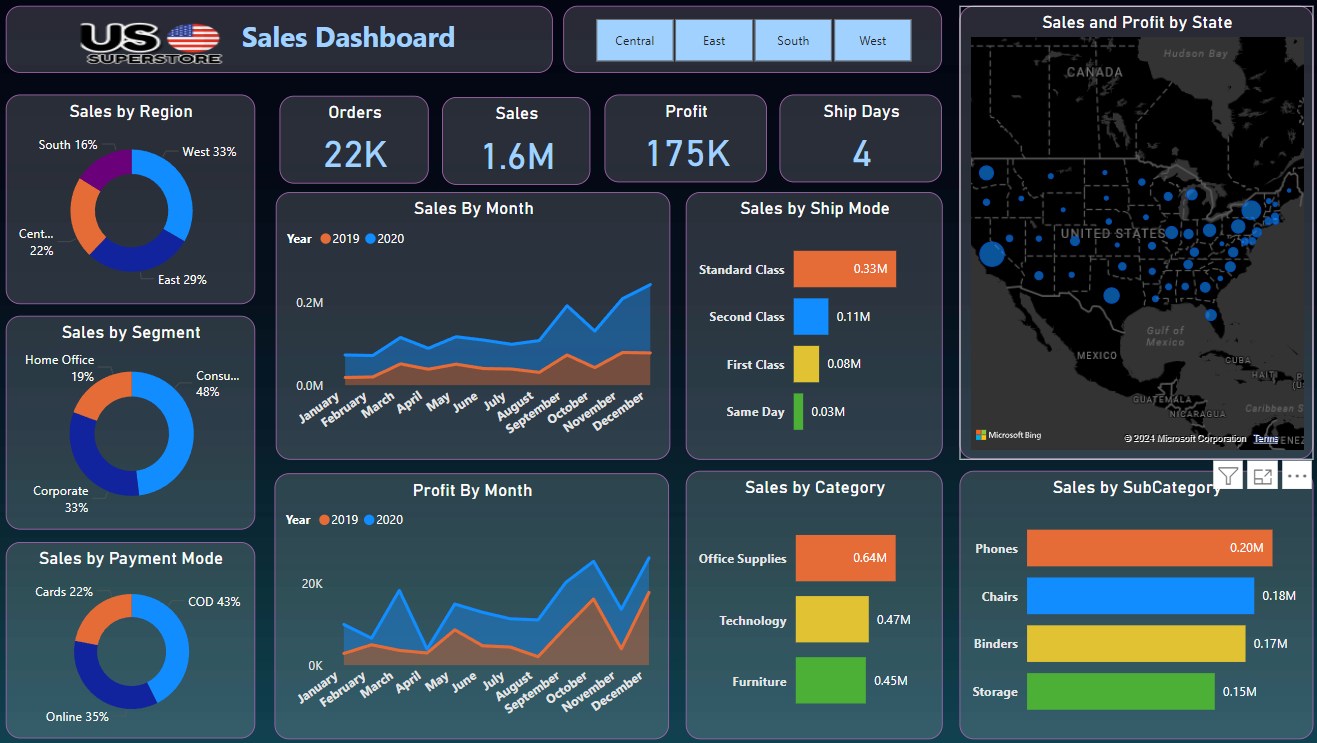

This screenshot's page, from the dashboard's own definition file:
{"tool":"powerbi","page":{"name":"Page 1","canvas":[1280,720],"ordinal":0},"visuals":[{"type":"clusteredBarChart","title":"Sales by Category","fields":{"Category":["SuperStore_Sales_Dataset.Category"],"Y":["Sum(SuperStore_Sales_Dataset.Sales)"]},"box":[664.6,457,248.1,259.5],"z":0},{"type":"clusteredBarChart","title":"Sales by SubCategory","fields":{"Category":["SuperStore_Sales_Dataset.Sub-Category"],"Y":["Sum(SuperStore_Sales_Dataset.Sales)"]},"box":[929.1,457,341.8,259.5],"z":1000},{"type":"clusteredBarChart","title":"Sales by Ship Mode","fields":{"Category":["SuperStore_Sales_Dataset.Ship Mode"],"Y":["Sum(SuperStore_Sales_Dataset.Sales)"]},"box":[664.6,188.6,248.1,258.2],"z":2000},{"type":"stackedAreaChart","title":"Sales By Month","fields":{"Y":["Sum(SuperStore_Sales_Dataset.Sales)"],"Category":["SuperStore_Sales_Dataset.Order Date.Variation.Date Hierarchy.Month","SuperStore_Sales_Dataset.Order Date.Variation.Date Hierarchy.Day"],"Series":["SuperStore_Sales_Dataset.Order Date.Variation.Date Hierarchy.Year"]},"box":[269.6,188.6,381,258.2],"z":3000},{"type":"stackedAreaChart","title":"Profit By Month","fields":{"Category":["SuperStore_Sales_Dataset.Order Date.Variation.Date Hierarchy.Month","SuperStore_Sales_Dataset.Order Date.Variation.Date Hierarchy.Day"],"Series":["SuperStore_Sales_Dataset.Order Date.Variation.Date Hierarchy.Year"],"Y":["Sum(SuperStore_Sales_Dataset.Profit)"]},"box":[268.4,459.5,381,257],"z":4000},{"type":"map","title":"Sales and Profit by State","fields":{"Category":["SuperStore_Sales_Dataset.State"],"Size":["Sum(SuperStore_Sales_Dataset.Sales)"]},"box":[929.1,8.9,341.8,438],"z":5000},{"type":"donutChart","title":"Sales by Segment","fields":{"Category":["SuperStore_Sales_Dataset.Segment"],"Y":["Sum(SuperStore_Sales_Dataset.Sales)"]},"box":[8.6,307.4,240.7,206.2],"z":6000},{"type":"donutChart","title":"Sales by Payment Mode","fields":{"Category":["SuperStore_Sales_Dataset.Payment Mode"],"Y":["Sum(SuperStore_Sales_Dataset.Sales)"]},"box":[8.9,526.6,240.5,189.9],"z":7000},{"type":"slicer","fields":{"Values":["SuperStore_Sales_Dataset.Region"]},"box":[546.8,8.9,365.8,64.6],"z":8000},{"type":"textbox","box":[8.9,8.9,527.8,64.6],"z":9000},{"type":"card","title":"Sales","fields":{"Values":["Sum(SuperStore_Sales_Dataset.Sales)"]},"box":[429.1,96.2,143,84.8],"z":10000},{"type":"card","title":"Orders","fields":{"Values":["Sum(SuperStore_Sales_Dataset.Quantity)"]},"box":[272.2,94.9,144.3,84.8],"z":11000},{"type":"card","title":"Profit","fields":{"Values":["Sum(SuperStore_Sales_Dataset.Profit)"]},"box":[586.1,93.7,157,84.8],"z":12000},{"type":"card","title":"Ship Days","fields":{"Values":["Avg(Super_Store_Sales.Avg_Delivery)"]},"box":[755.7,93.7,157,84.8],"z":13000},{"type":"donutChart","title":"Sales by Region","fields":{"Category":["Super_Store_Sales.Region"],"Y":["Sum(SuperStore_Sales_Dataset.Sales)"]},"box":[8.9,93.7,240.5,202.5],"z":14000},{"type":"image","box":[65.4,0,161.7,93.8],"z":15000}]}

Visuals, with their boxes in screenshot pixels (x1, y1, x2, y2), scaled from the page's 1280x720 canvas onto the 1317x743 screenshot:
"Sales by Category" clusteredBarChart: 684 472 939 739
"Sales by SubCategory" clusteredBarChart: 956 472 1308 739
"Sales by Ship Mode" clusteredBarChart: 684 195 939 461
"Sales By Month" stackedAreaChart: 277 195 669 461
"Profit By Month" stackedAreaChart: 276 474 668 739
"Sales and Profit by State" map: 956 9 1308 461
"Sales by Segment" donutChart: 9 317 257 530
"Sales by Payment Mode" donutChart: 9 543 257 739
slicer - SuperStore_Sales_Dataset.Region: 563 9 939 76
textbox: 9 9 552 76
"Sales" card: 442 99 589 187
"Orders" card: 280 98 429 185
"Profit" card: 603 97 765 184
"Ship Days" card: 778 97 939 184
"Sales by Region" donutChart: 9 97 257 306
image: 67 0 234 97
